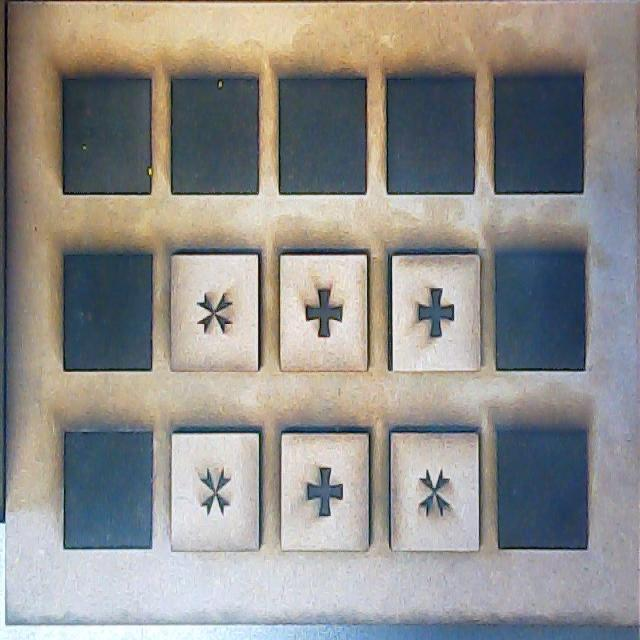maltese: (170, 429, 262, 554), (171, 250, 260, 374), (392, 429, 478, 548)
nothing: (60, 424, 156, 557)
temple: (278, 252, 370, 372), (281, 433, 372, 546), (393, 255, 479, 372)
